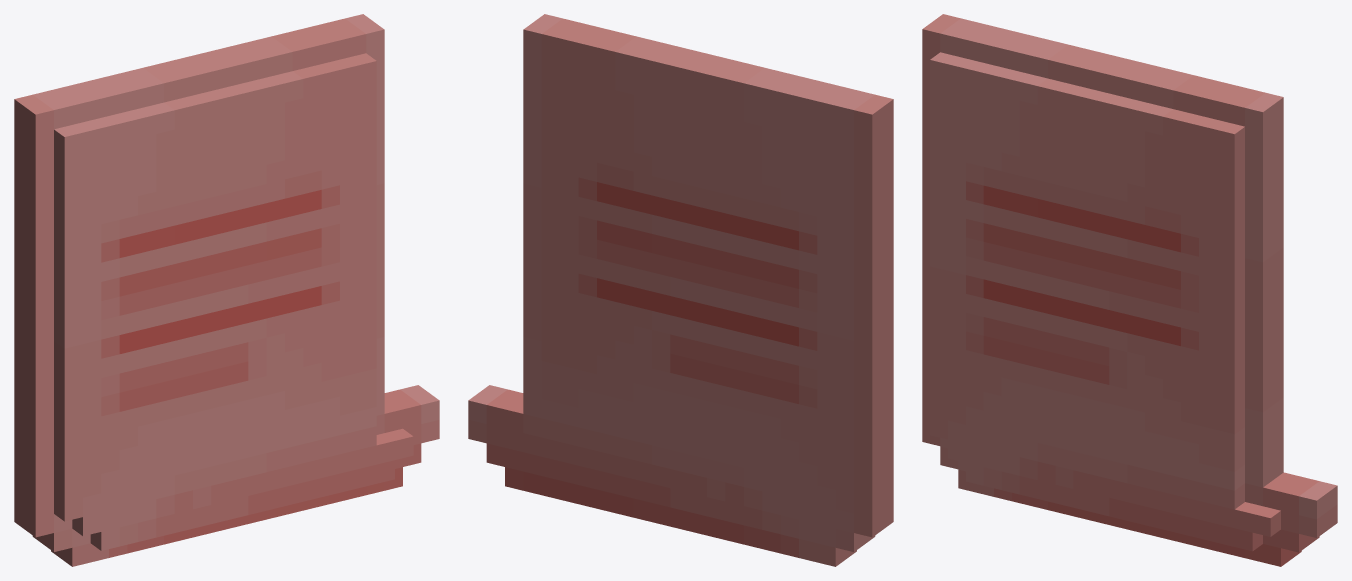
Rendered from page-red.glb.
3 renders of one model, left to right at view 1: azimuth 30°, elevation 25°; view 2: azimuth 150°, elevation 25°; view 3: azimuth 330°, elevation 25°, orthographic. The views are drawn at different scales.
Visible parts, largest first — view 1: prop; view 2: prop; view 3: prop.
Part boxes in pixels (x1,y1,x2,y2): prop: [14, 14, 439, 566]; prop: [468, 14, 893, 566]; prop: [922, 14, 1337, 566].
Bounding box in the file's own units: 14.67 × 16 × 2.
